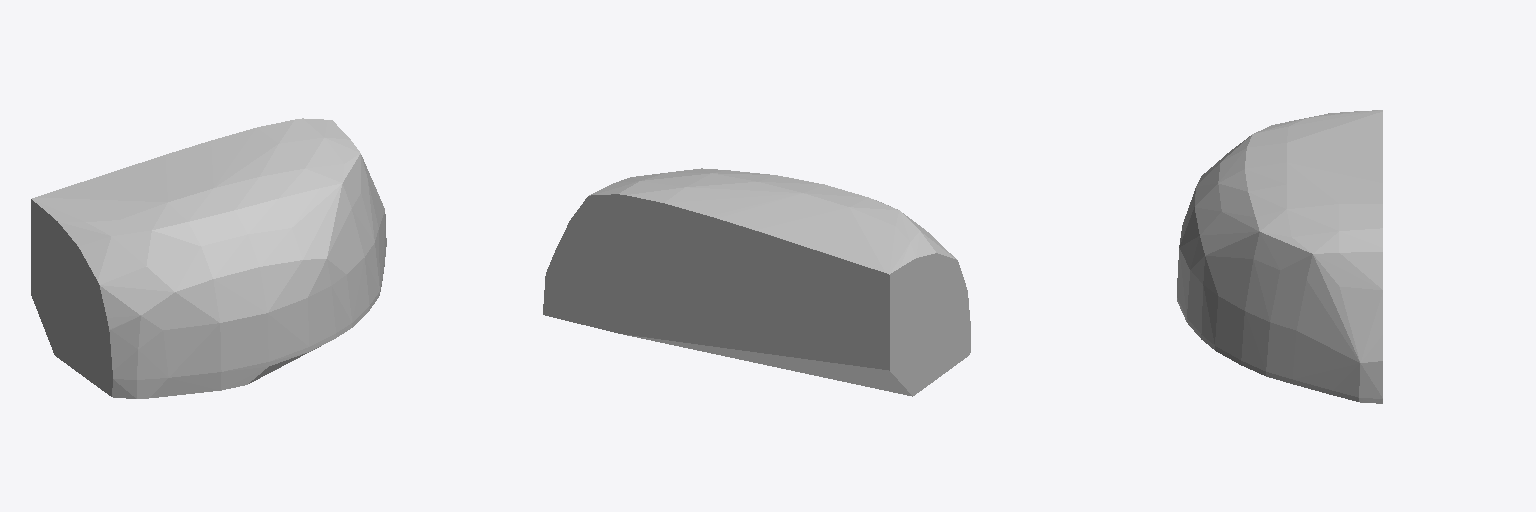
The model's file is phantom-elastrat_collision_576.obj.
3 renders of one model, left to right at view 1: azimuth 30°, elevation 25°; view 2: azimuth 150°, elevation 25°; view 3: azimuth 270°, elevation 25°, orthographic.
Size of the model in its own units: 0.0088 by 0.0038 by 0.0045.